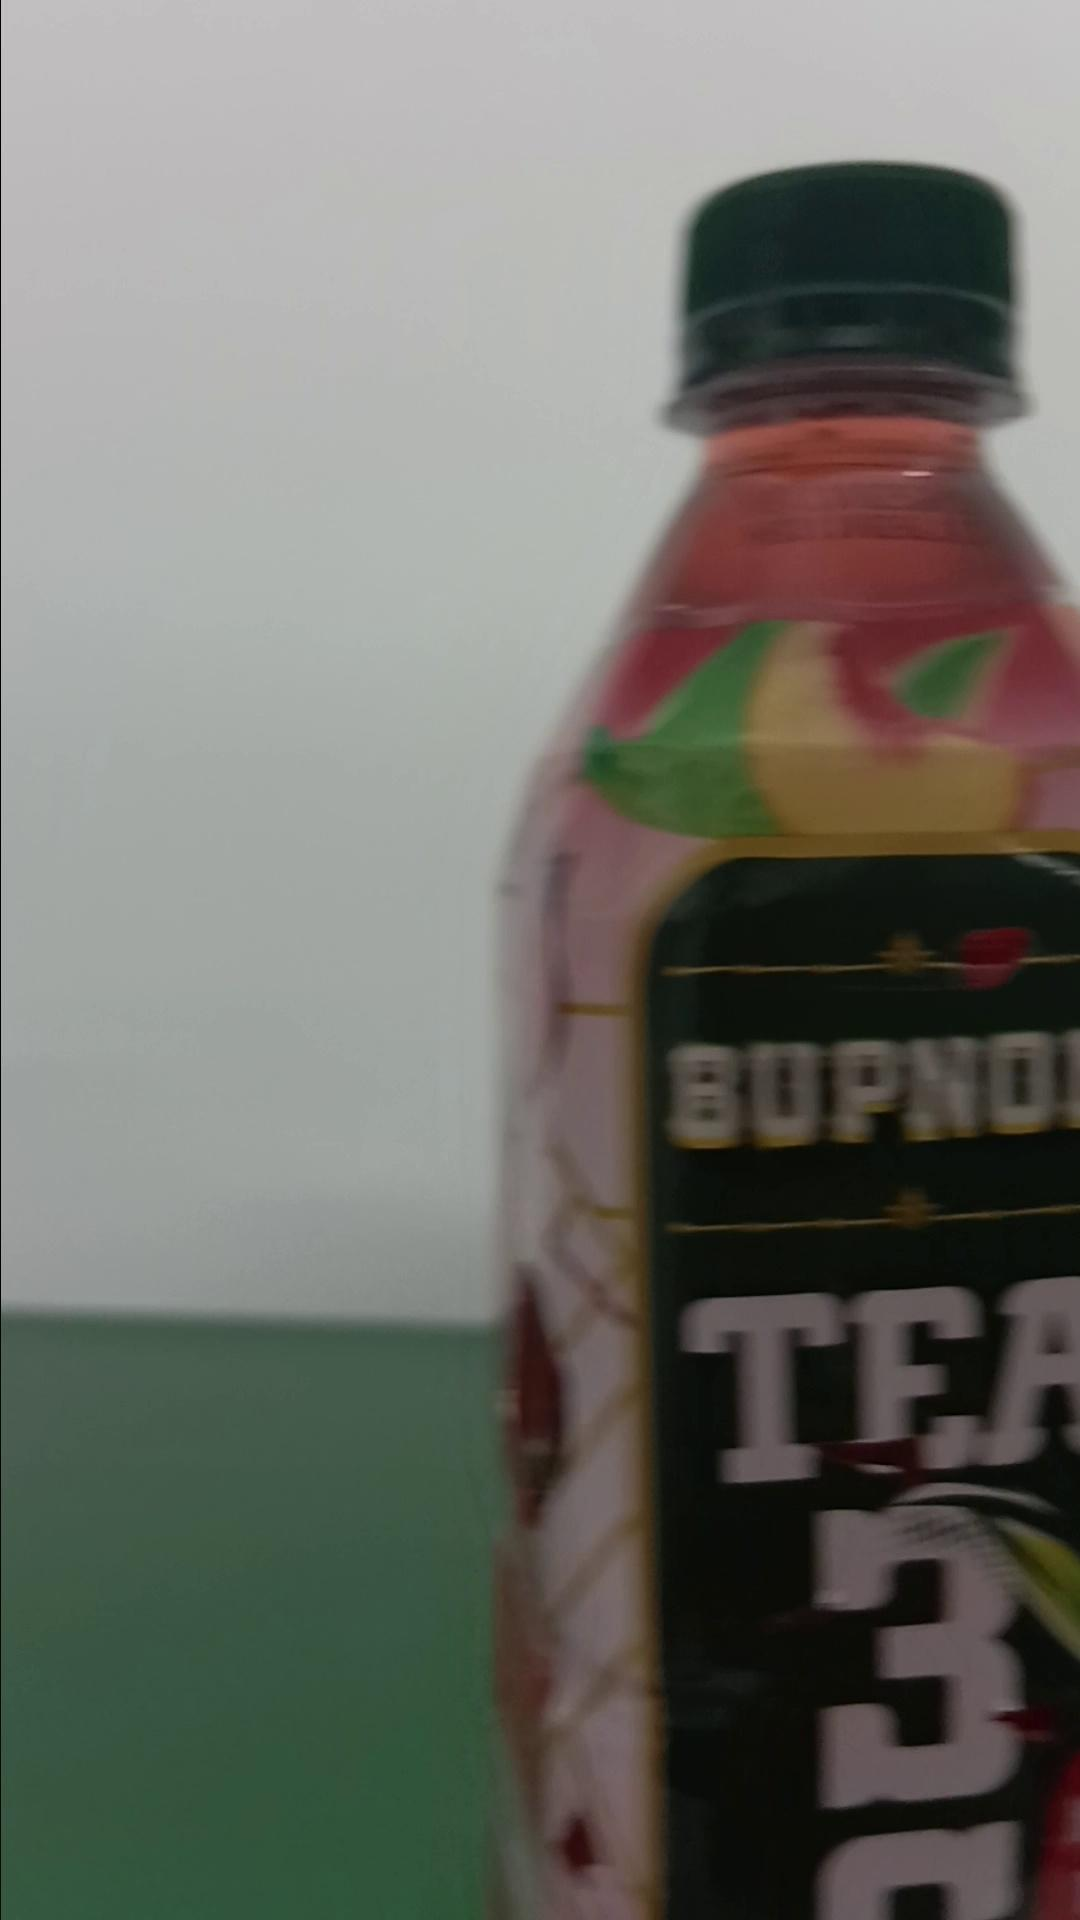loi rach va lap chai: (485, 158, 1077, 1920)
